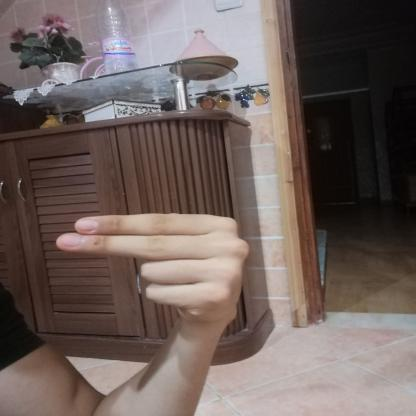AYN: (41, 200, 263, 339)
